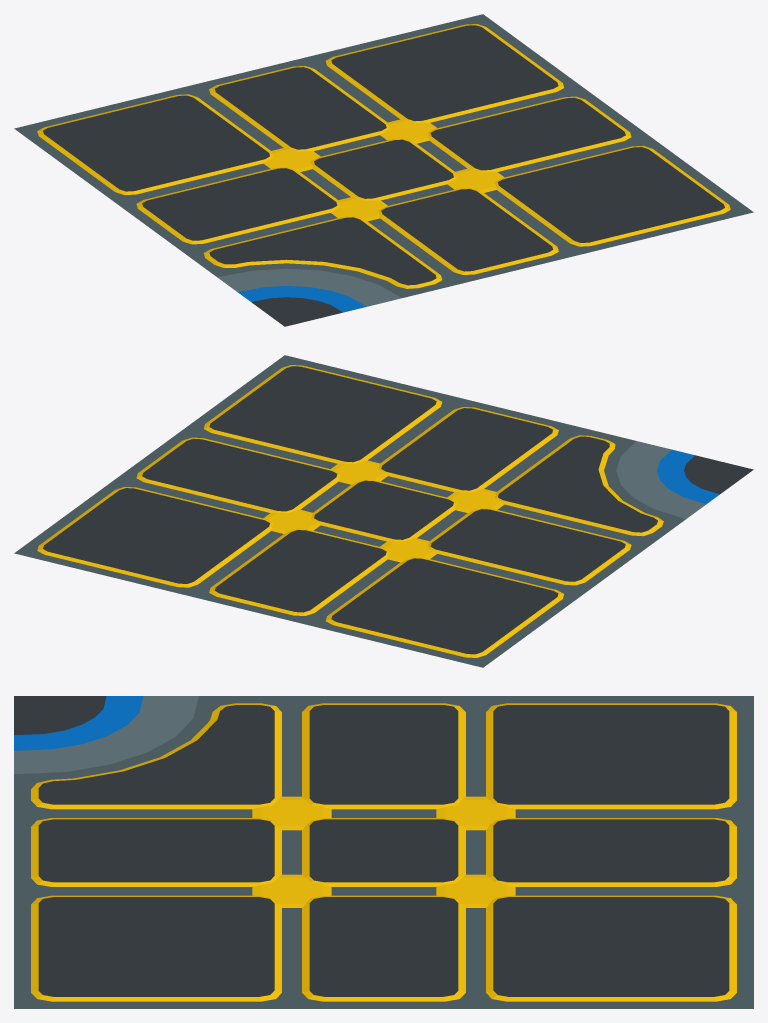
File: Floor_type_C_022.glb
3 views of the same model, one above another, from view 1: azimuth 30°, elevation 25°; view 2: azimuth 150°, elevation 25°; view 3: azimuth 270°, elevation 25° (orthographic). The views are drawn at different scales.
Visible parts, largest first — view 1: Floor_type_C_022; view 2: Floor_type_C_022; view 3: Floor_type_C_022.
Boxes of the visible parts, x1,y1,x2,y2 form: Floor_type_C_022: [14, 14, 753, 326]; Floor_type_C_022: [14, 355, 753, 667]; Floor_type_C_022: [14, 696, 753, 1008].
Bounding box in the file's own units: 4 × 0.0134 × 4.
Materials: 2 (2 with a texture image).
